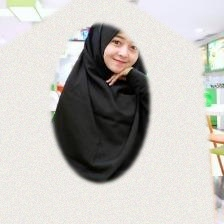Mukena: (0, 29, 212, 224)
